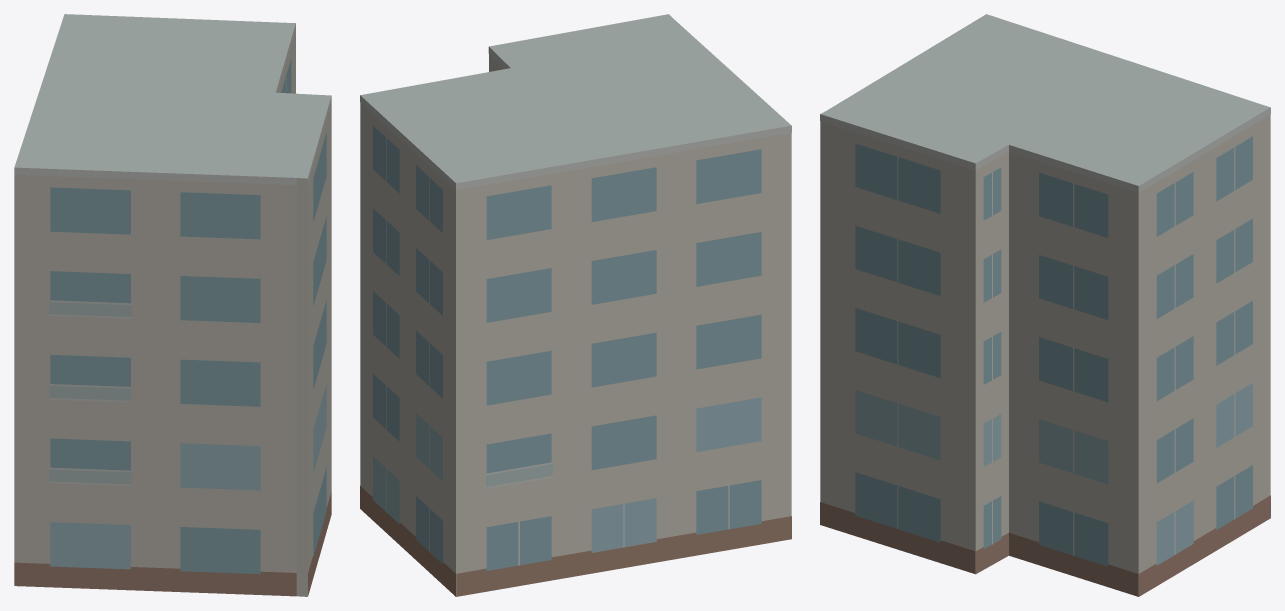
The model's file is survey-upis-32946098.glb.
3 views of the same model, side by side, from view 1: azimuth 30°, elevation 25°; view 2: azimuth 150°, elevation 25°; view 3: azimuth 270°, elevation 25° (orthographic).
Parts seen in each view (by area): view 1: survey-upis-32946098.tmp; view 2: survey-upis-32946098.tmp; view 3: survey-upis-32946098.tmp.
Boxes of the visible parts, bbox=[...] form: survey-upis-32946098.tmp: bbox=[14, 14, 331, 596]; survey-upis-32946098.tmp: bbox=[360, 14, 791, 596]; survey-upis-32946098.tmp: bbox=[820, 14, 1270, 596].
Bounding box in the file's own units: 12.81 × 14.25 × 14.17.
